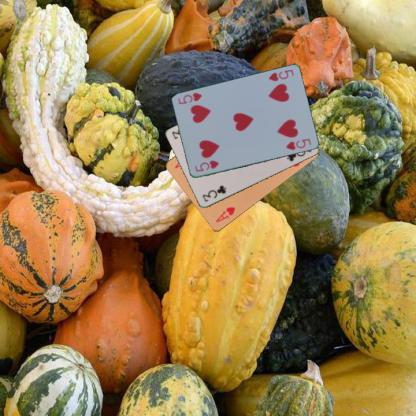3c: (199, 182, 228, 204)
5h: (266, 67, 295, 83), (193, 158, 220, 172)
Ah: (214, 205, 236, 224)
